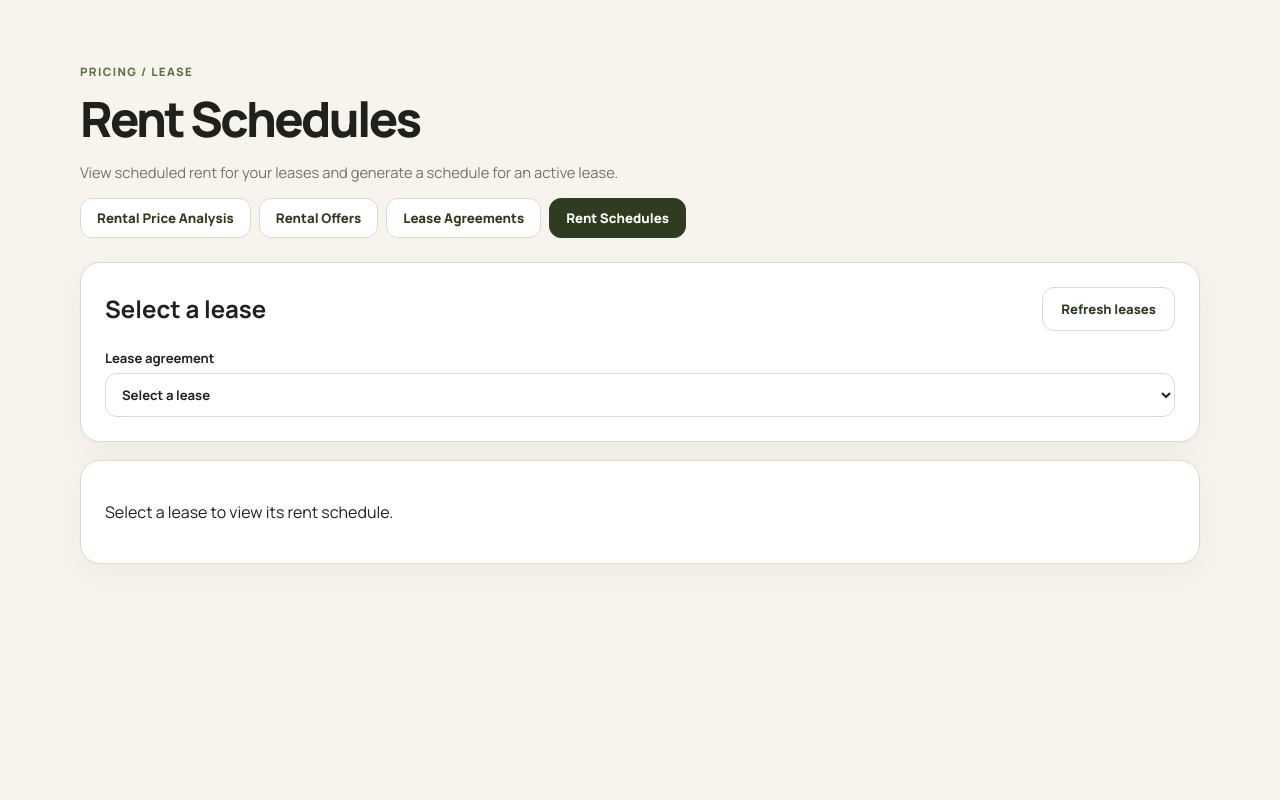
Test: landlord rent schedules › does not offer generation for a pending lease
Select "44444444-4444-4444-4444-444444444444 · Tenant 55555555-5555-5555-5555-5555555555" in the dropdown labelled "Lease agreement": (640, 395) [105,373,1175,417]
(page scrolled)
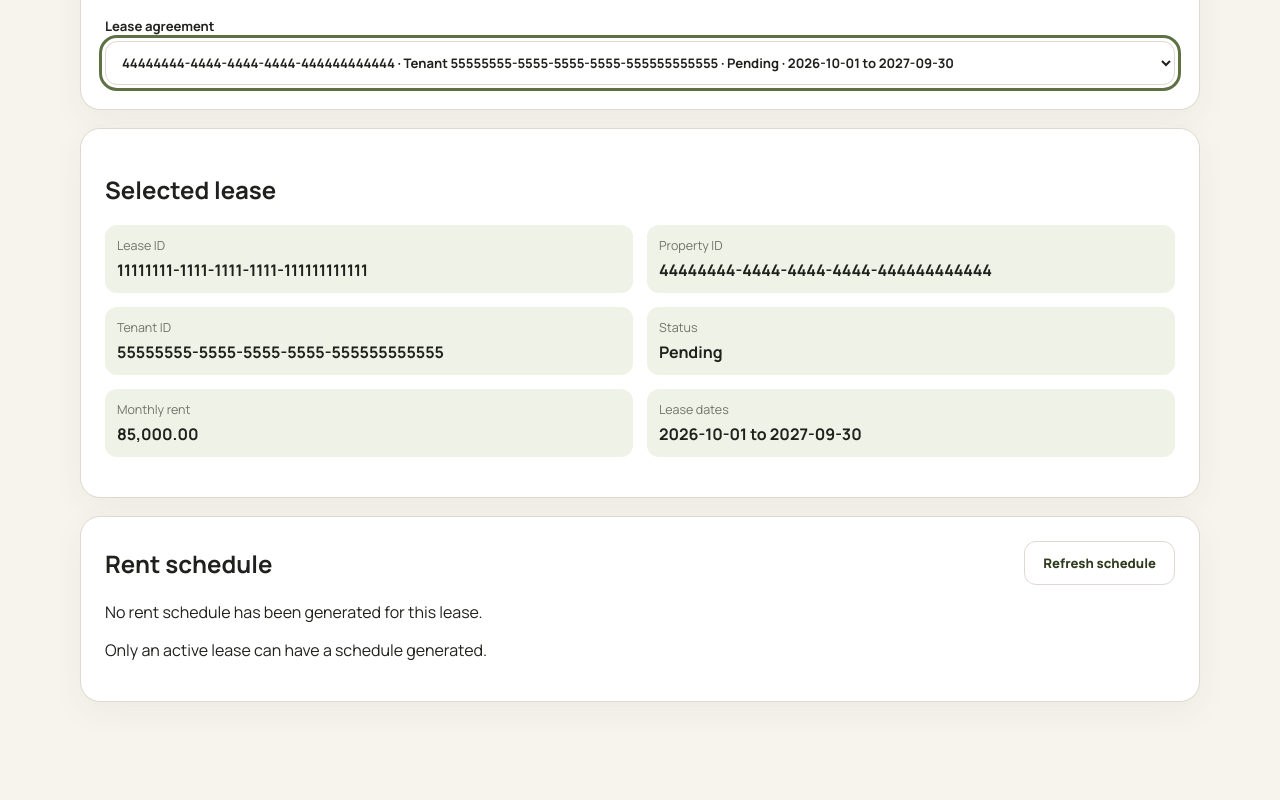
expect the text "Only an active lease can have a schedule generated." is shown: met, box [105,640,487,662]
